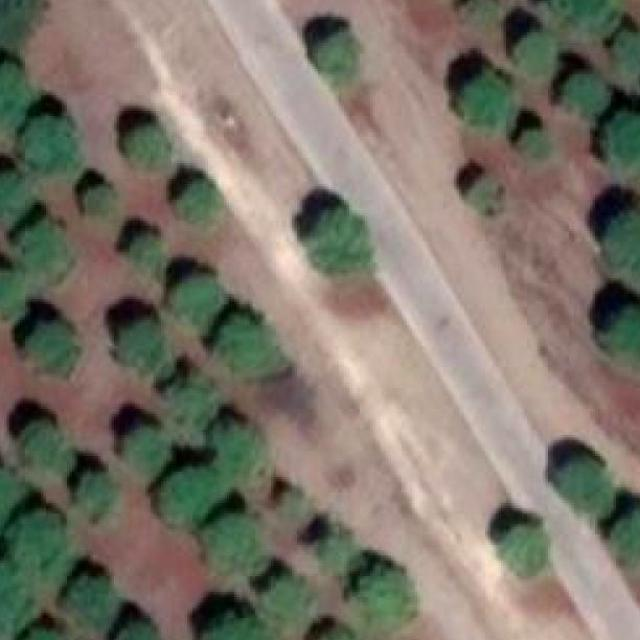Tree: (4, 508, 78, 585), (22, 116, 97, 183), (306, 200, 370, 273), (459, 70, 521, 140), (206, 514, 273, 578), (224, 414, 284, 485), (346, 571, 406, 640), (60, 566, 118, 635), (219, 318, 277, 384), (172, 263, 233, 325), (253, 569, 310, 635), (17, 422, 79, 480), (161, 472, 219, 533), (562, 458, 620, 518), (27, 325, 87, 381), (13, 218, 68, 277), (605, 192, 640, 274), (83, 184, 135, 238), (321, 35, 371, 90), (0, 0, 50, 55), (602, 293, 640, 365), (312, 522, 358, 579), (201, 605, 273, 640), (605, 111, 640, 182), (501, 524, 542, 584), (547, 0, 625, 29), (109, 320, 163, 361), (120, 428, 168, 473), (170, 367, 214, 416), (556, 74, 606, 117), (182, 184, 223, 234), (0, 58, 26, 134), (75, 472, 117, 518), (464, 176, 506, 222), (0, 265, 28, 324), (517, 27, 552, 73), (127, 126, 161, 172), (0, 558, 19, 640), (613, 32, 640, 86), (122, 229, 161, 266), (517, 127, 554, 166), (613, 511, 640, 564), (0, 171, 21, 224), (111, 620, 161, 640), (0, 461, 14, 532), (278, 488, 312, 517), (312, 625, 354, 640), (11, 633, 71, 640)
